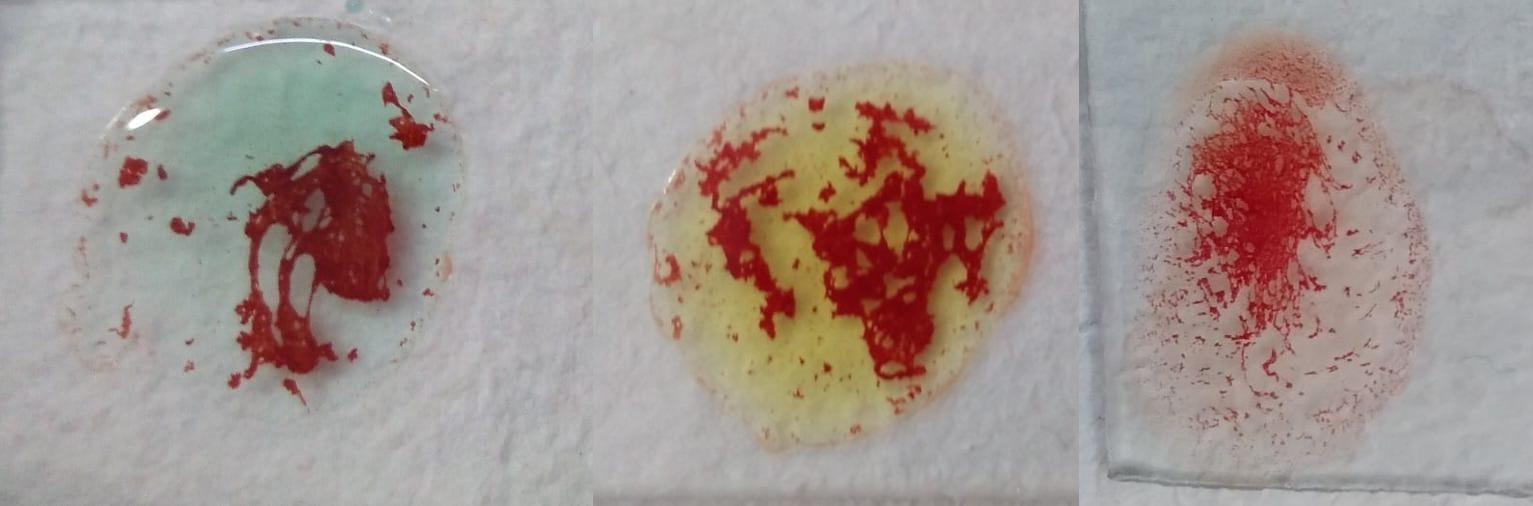A: (85, 15, 452, 428)
B: (647, 55, 1027, 442)
D: (1115, 45, 1426, 459)
